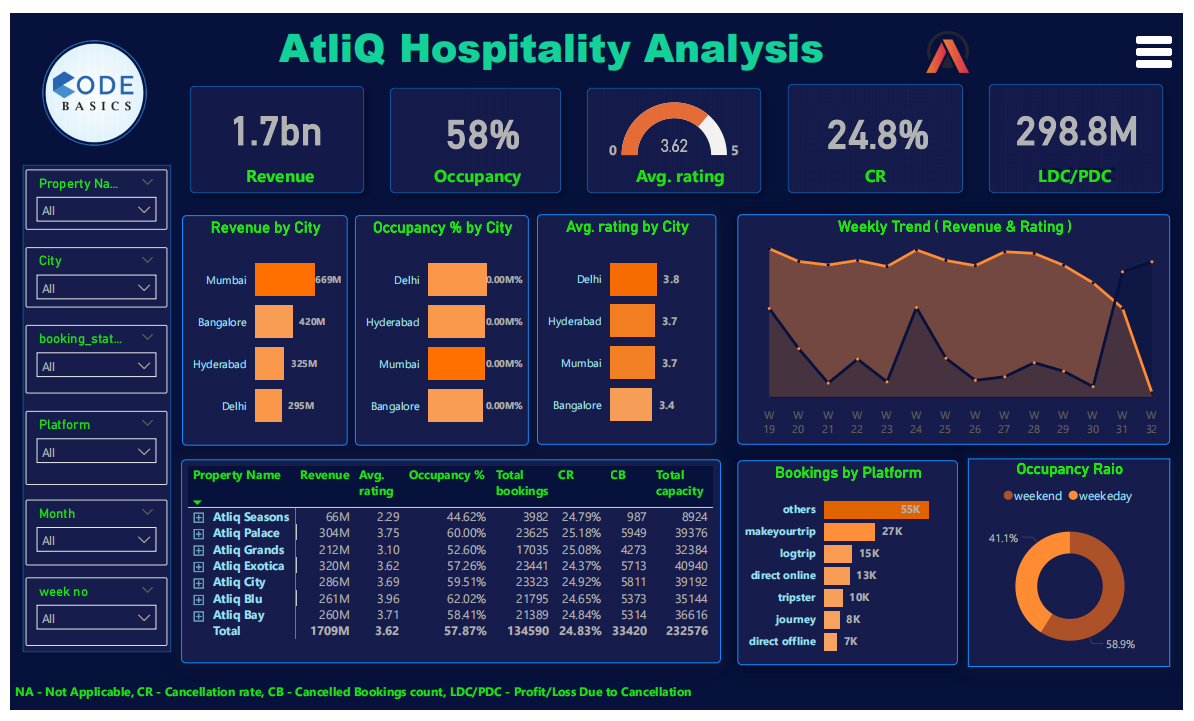

The page's visual inventory and layout, read from the dashboard file:
{"tool":"powerbi","page":{"name":"Main Page","canvas":[1280,760],"ordinal":0},"visuals":[{"type":"textbox","box":[1.6,0,1278.9,75.6],"z":0,"group":"g1"},{"type":"group","id":"g1","title":"visuals","box":[0,0,1280.6,760],"z":1000},{"type":"shape","box":[1059.5,68.3,208.3,136.3],"z":1000,"group":"g1"},{"type":"image","title":"three dot menu","box":[1216.8,17.8,63,48.5],"z":2000},{"type":"textbox","box":[1094.7,156.6,145.1,44.5],"z":2000,"group":"g1"},{"type":"textbox","box":[0,727,1063.3,33],"z":3500,"group":"g1"},{"type":"textbox","box":[224.2,164.9,145.1,39.6],"z":4000,"group":"g1"},{"type":"textbox","box":[654.5,163.2,145.1,44.5],"z":5000,"group":"g1"},{"type":"textbox","box":[443.5,163.2,145.1,44.5],"z":6000,"group":"g1"},{"type":"textbox","box":[880.3,161.6,145.1,44.5],"z":7000,"group":"g1"},{"type":"textbox","box":[1088.2,159.5,151.2,39.5],"z":12000,"group":"g1"},{"type":"shape","box":[621.2,72.1,208.3,132.5],"z":13000,"group":"g1"},{"type":"textbox","box":[654.3,159.5,156.2,39.5],"z":13500,"group":"g1"},{"type":"shape","box":[405.8,72.1,204.5,132.5],"z":14000,"group":"g1"},{"type":"textbox","box":[434,159.5,154.5,39.5],"z":14125,"group":"g1"},{"type":"shape","box":[840.3,68.3,208.3,136.3],"z":14250,"group":"g1"},{"type":"textbox","box":[882.7,159.5,124.9,39.5],"z":14500,"group":"g1"},{"type":"clusteredBarChart","title":"Revenue by City","fields":{"Category":["dim_hotels.city"],"Y":["resource_measures.revenue"]},"box":[187,220.4,181,251.7],"z":16000,"group":"g1"},{"type":"card","fields":{"Values":["resource_measures.Occupancy %"]},"box":[455.5,94.8,119.3,64.4],"z":17000,"group":"g1"},{"type":"clusteredBarChart","title":"Occupancy % by City","fields":{"Category":["dim_hotels.city"],"Y":["resource_measures.Occupancy %"]},"box":[376.4,220.3,190,251.5],"z":18000,"group":"g1"},{"type":"gauge","fields":{"Y":["resource_measures.avg.rating mod"],"MaxValue":["resource_measures.max.rating"],"MinValue":["resource_measures.min.rating"]},"box":[644,85.6,161.6,84.1],"z":19000,"group":"g1"},{"type":"clusteredBarChart","title":"Avg. rating by City","fields":{"Category":["dim_hotels.city"],"Y":["resource_measures.Avg. rating"]},"box":[574.8,219.2,196.2,252.2],"z":20000,"group":"g1"},{"type":"donutChart","title":"Occupancy Raio","fields":{"Category":["dim_date.day_type"],"Y":["resource_measures.Occupancy %"]},"box":[1046.3,486.2,220.9,227.5],"z":21000,"group":"g1"},{"type":"areaChart","title":"Weekly Trend ( Revenue & Rating )","fields":{"Category":["dim_date.week no"],"Y2":["resource_measures.Avg. rating"],"Y":["resource_measures.revenue"]},"box":[794,219.2,473.4,251.5],"z":22000,"group":"g1"},{"type":"clusteredBarChart","title":"Bookings by Platform","fields":{"Category":["fact_bookings.booking_platform"],"Y":["resource_measures.Total bookings"]},"box":[794,487.9,240.7,224.2],"z":23000,"group":"g1"},{"type":"pivotTable","fields":{"Rows":["dim_hotels.property_name","dim_hotels.city"],"Values":["resource_measures.revenue","resource_measures.Avg. rating","resource_measures.Occupancy %","resource_measures.Total bookings","resource_measures.CR","resource_measures.Total cancelled bookings","resource_measures.Total capacity"]},"box":[186.3,486.6,590.1,223.6],"z":24000,"group":"g1"},{"type":"shape","box":[9.9,161.7,167.7,539.2],"z":25000,"group":"g1"},{"type":"slicer","fields":{"Values":["dim_date.week no"]},"box":[15.9,616.5,155,74.2],"z":26000,"group":"g1"},{"type":"slicer","fields":{"Values":["dim_date.mmm yy.Variation.Date Hierarchy.Month"]},"box":[15.9,530.7,155,72.5],"z":27000,"group":"g1"},{"type":"slicer","fields":{"Values":["fact_bookings.booking_platform"]},"box":[16.2,434.1,155.3,81.4],"z":28000,"group":"g1"},{"type":"slicer","fields":{"Values":["fact_bookings.booking_status"]},"box":[16.2,339.8,155.3,75.7],"z":29000,"group":"g1"},{"type":"slicer","fields":{"Values":["dim_hotels.city"]},"box":[16.2,254.9,155.3,66.3],"z":30000,"group":"g1"},{"type":"slicer","fields":{"Values":["dim_hotels.property_name"]},"box":[16.2,170.1,155.3,66.3],"z":31000,"group":"g1"},{"type":"card","fields":{"Values":["resource_measures.LDC"]},"box":[1089.7,85.6,150,74.2],"z":32000,"group":"g1"},{"type":"card","fields":{"Values":["resource_measures.CR"]},"box":[870.2,75.9,155.3,102.2],"z":33000,"group":"g1"},{"type":"shape","box":[186.6,70.2,208.3,134.4],"z":34000,"group":"g1"},{"type":"textbox","box":[221.9,159.5,146.3,39.5],"z":34500,"group":"g1"},{"type":"card","fields":{"Values":["resource_measures.revenue"]},"box":[207.7,85.6,163.2,74.2],"z":35000,"group":"g1"},{"type":"image","title":"atliq","box":[982.8,4.3,77.6,73.8],"z":36000,"group":"g1"},{"type":"image","title":"codebasics","box":[15.4,19.7,152.9,133.2],"z":37000,"group":"g1"}]}

Visuals, with their boxes in screenshot pixels (x1, y1, x2, y2), scaled from the page's 1280x760 canvas onto the 1194x721 screenshot:
textbox: [1,0,1193,72]
"visuals" group: [0,0,1193,720]
shape: [988,65,1183,194]
"three dot menu" image: [1135,17,1193,63]
textbox: [1021,149,1157,191]
textbox: [0,690,992,720]
textbox: [209,156,344,194]
textbox: [611,155,746,197]
textbox: [414,155,549,197]
textbox: [821,153,957,196]
textbox: [1015,151,1156,189]
shape: [579,68,774,194]
textbox: [610,151,756,189]
shape: [379,68,569,194]
textbox: [405,151,549,189]
shape: [784,65,978,194]
textbox: [823,151,940,189]
"Revenue by City" clusteredBarChart: [174,209,343,448]
card - resource_measures.Occupancy %: [425,90,536,151]
"Occupancy % by City" clusteredBarChart: [351,209,528,448]
gauge - resource_measures.avg.rating mod x resource_measures.max.rating: [601,81,751,161]
"Avg. rating by City" clusteredBarChart: [536,208,719,447]
"Occupancy Raio" donutChart: [976,461,1182,677]
"Weekly Trend ( Revenue & Rating )" areaChart: [741,208,1182,447]
"Bookings by Platform" clusteredBarChart: [741,463,965,676]
pivotTable - dim_hotels.property_name x dim_hotels.city: [174,462,724,674]
shape: [9,153,166,665]
slicer - dim_date.week no: [15,585,159,655]
slicer - dim_date.mmm yy.Variation.Date Hierarchy.Month: [15,503,159,572]
slicer - fact_bookings.booking_platform: [15,412,160,489]
slicer - fact_bookings.booking_status: [15,322,160,394]
slicer - dim_hotels.city: [15,242,160,305]
slicer - dim_hotels.property_name: [15,161,160,224]
card - resource_measures.LDC: [1016,81,1156,152]
card - resource_measures.CR: [812,72,957,169]
shape: [174,67,368,194]
textbox: [207,151,343,189]
card - resource_measures.revenue: [194,81,346,152]
"atliq" image: [917,4,989,74]
"codebasics" image: [14,19,157,145]
